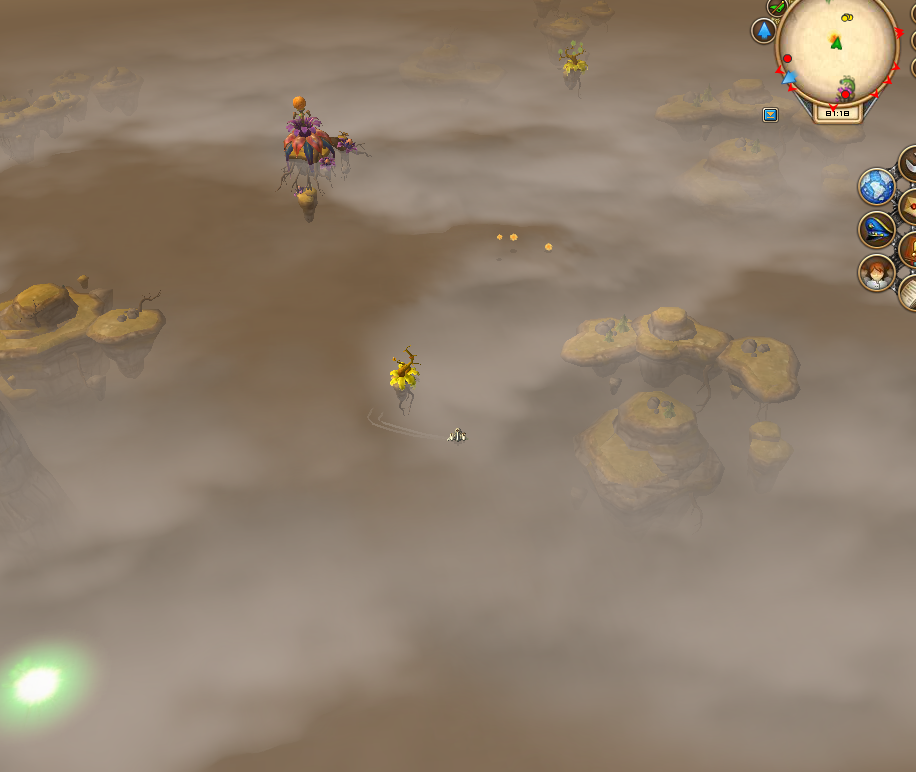dandelion-empty: (385, 342, 423, 409)
dandelion-full: (554, 36, 593, 92)
fluff: (540, 238, 557, 255), (507, 230, 522, 244), (493, 230, 507, 244)
